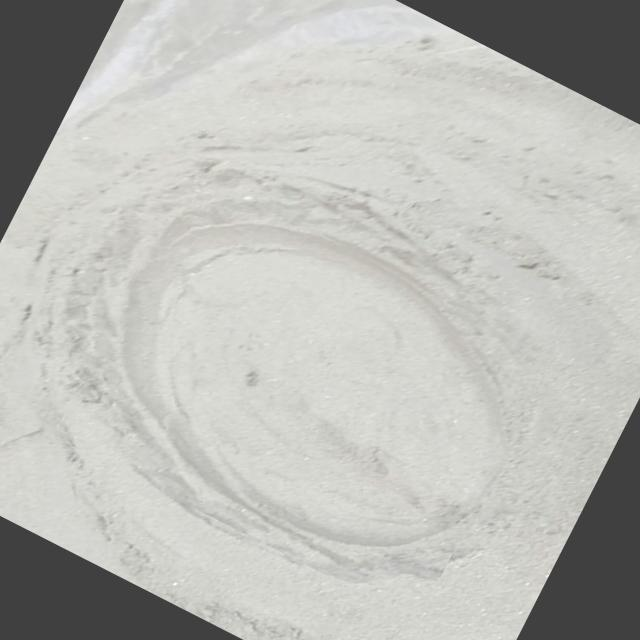C40: (118, 223, 504, 547)
